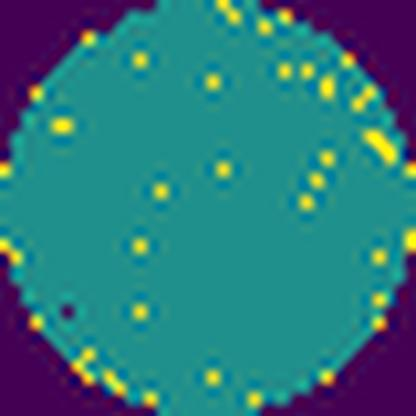Loc: (364, 130, 397, 161)
